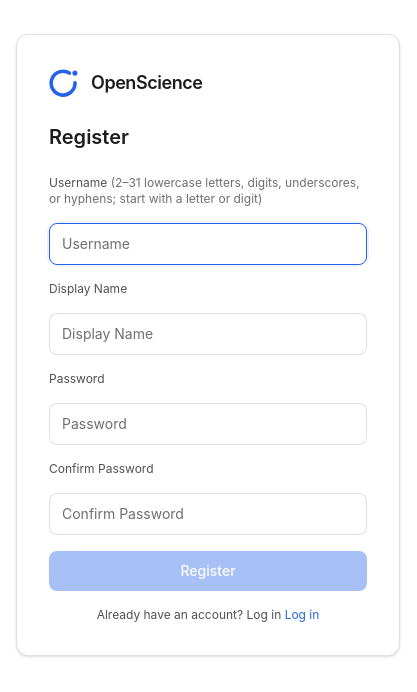
RegisterPage › announces validation errors and associates them with password controls
Step 1. Type "alice" into the field labelled "Username" → (208, 244), box [49,223,367,265]
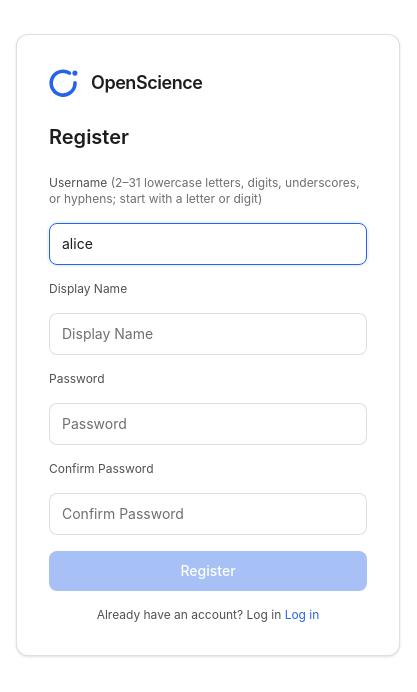
Step 2. Type "Alice" into the field labelled "Display Name" → (208, 334), box [49,313,367,355]
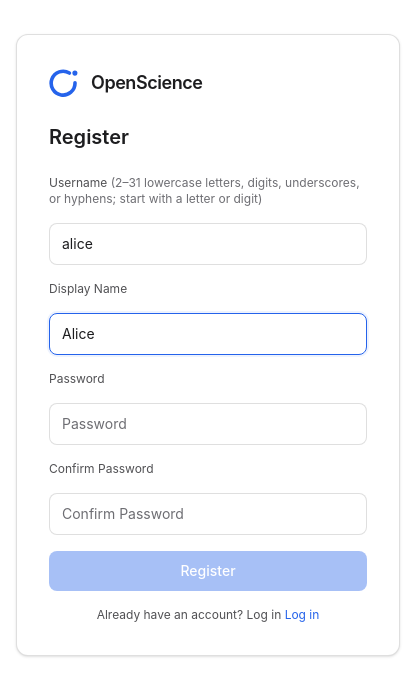
Step 3. Type "secret" into the password field labelled "Password" → (208, 424), box [49,403,367,445]
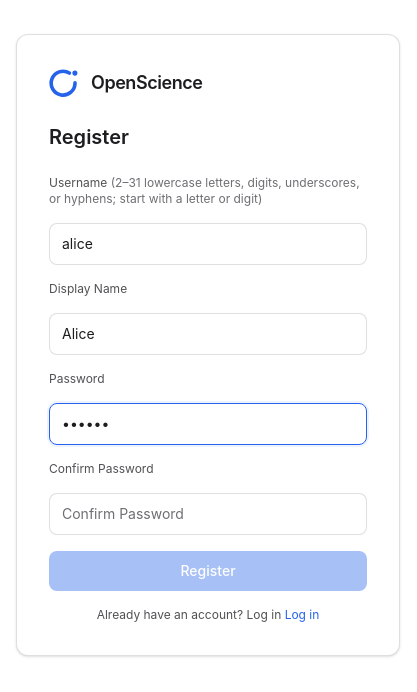
Step 4. Type "different" into the password field labelled "Confirm Password" → (208, 514), box [49,493,367,535]
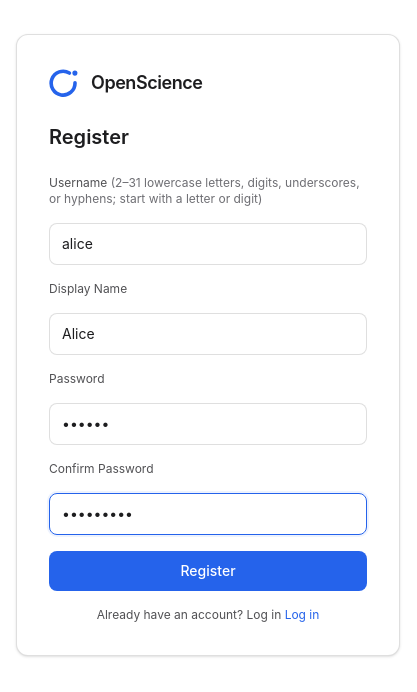
Step 5. Click the button "Register" → (208, 571), box [49,551,367,591]
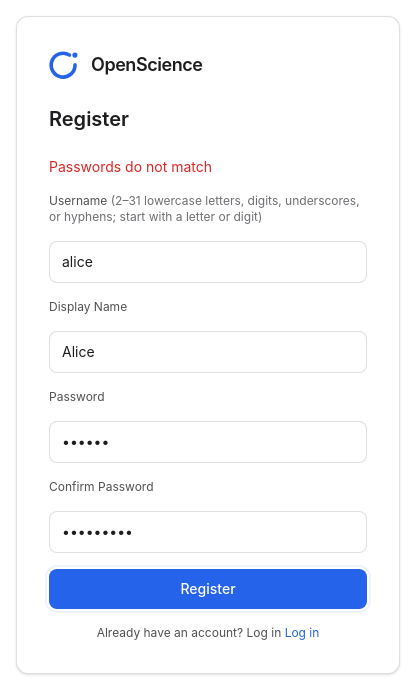
Result: the message reads "Passwords do not match" at [49,158,212,175]
